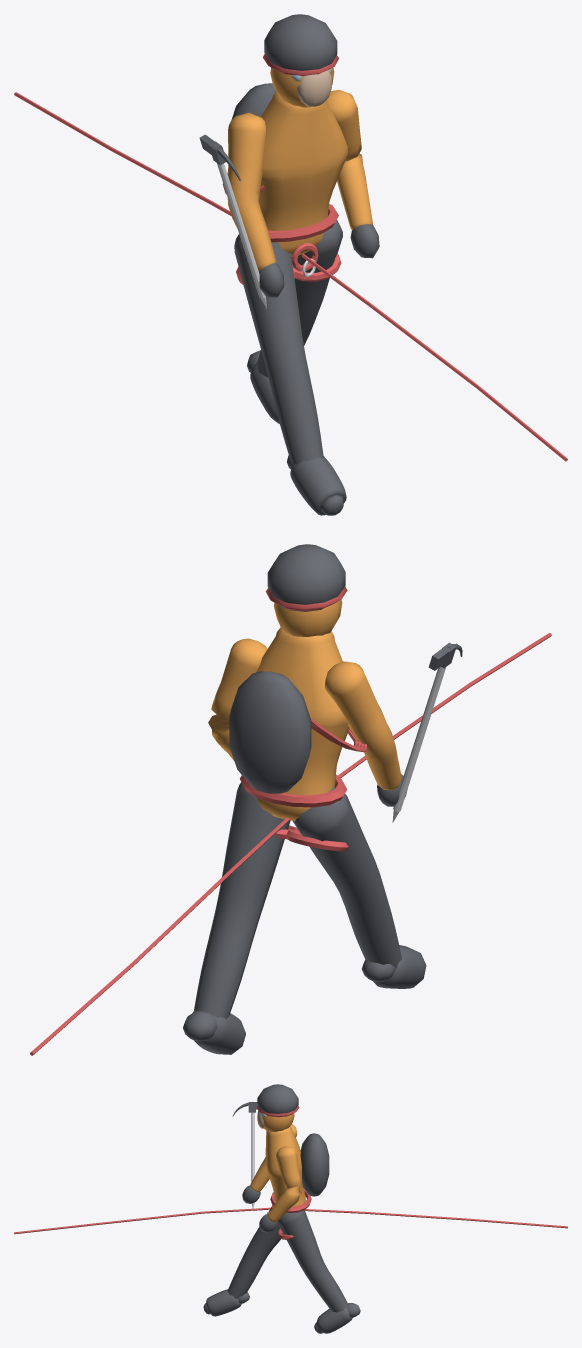
Rendered from mountaineering-and-summit-expedition-roped-glacier-tea-799913d8__18792.glb.
The picture shows the model from 3 angles, top to bottom: view 1: azimuth 30°, elevation 25°; view 2: azimuth 150°, elevation 25°; view 3: azimuth 270°, elevation 25°; orthographic projection. The views are drawn at different scales.
Visible parts, largest first — view 1: roped-glacier-team-member; view 2: roped-glacier-team-member; view 3: roped-glacier-team-member.
Part boxes in pixels (x1,y1,x2,y2): roped-glacier-team-member: [14, 14, 567, 515]; roped-glacier-team-member: [30, 544, 551, 1055]; roped-glacier-team-member: [14, 1084, 567, 1333].
Size of the model in its own units: 0.7947 by 1.81 by 3.8.
